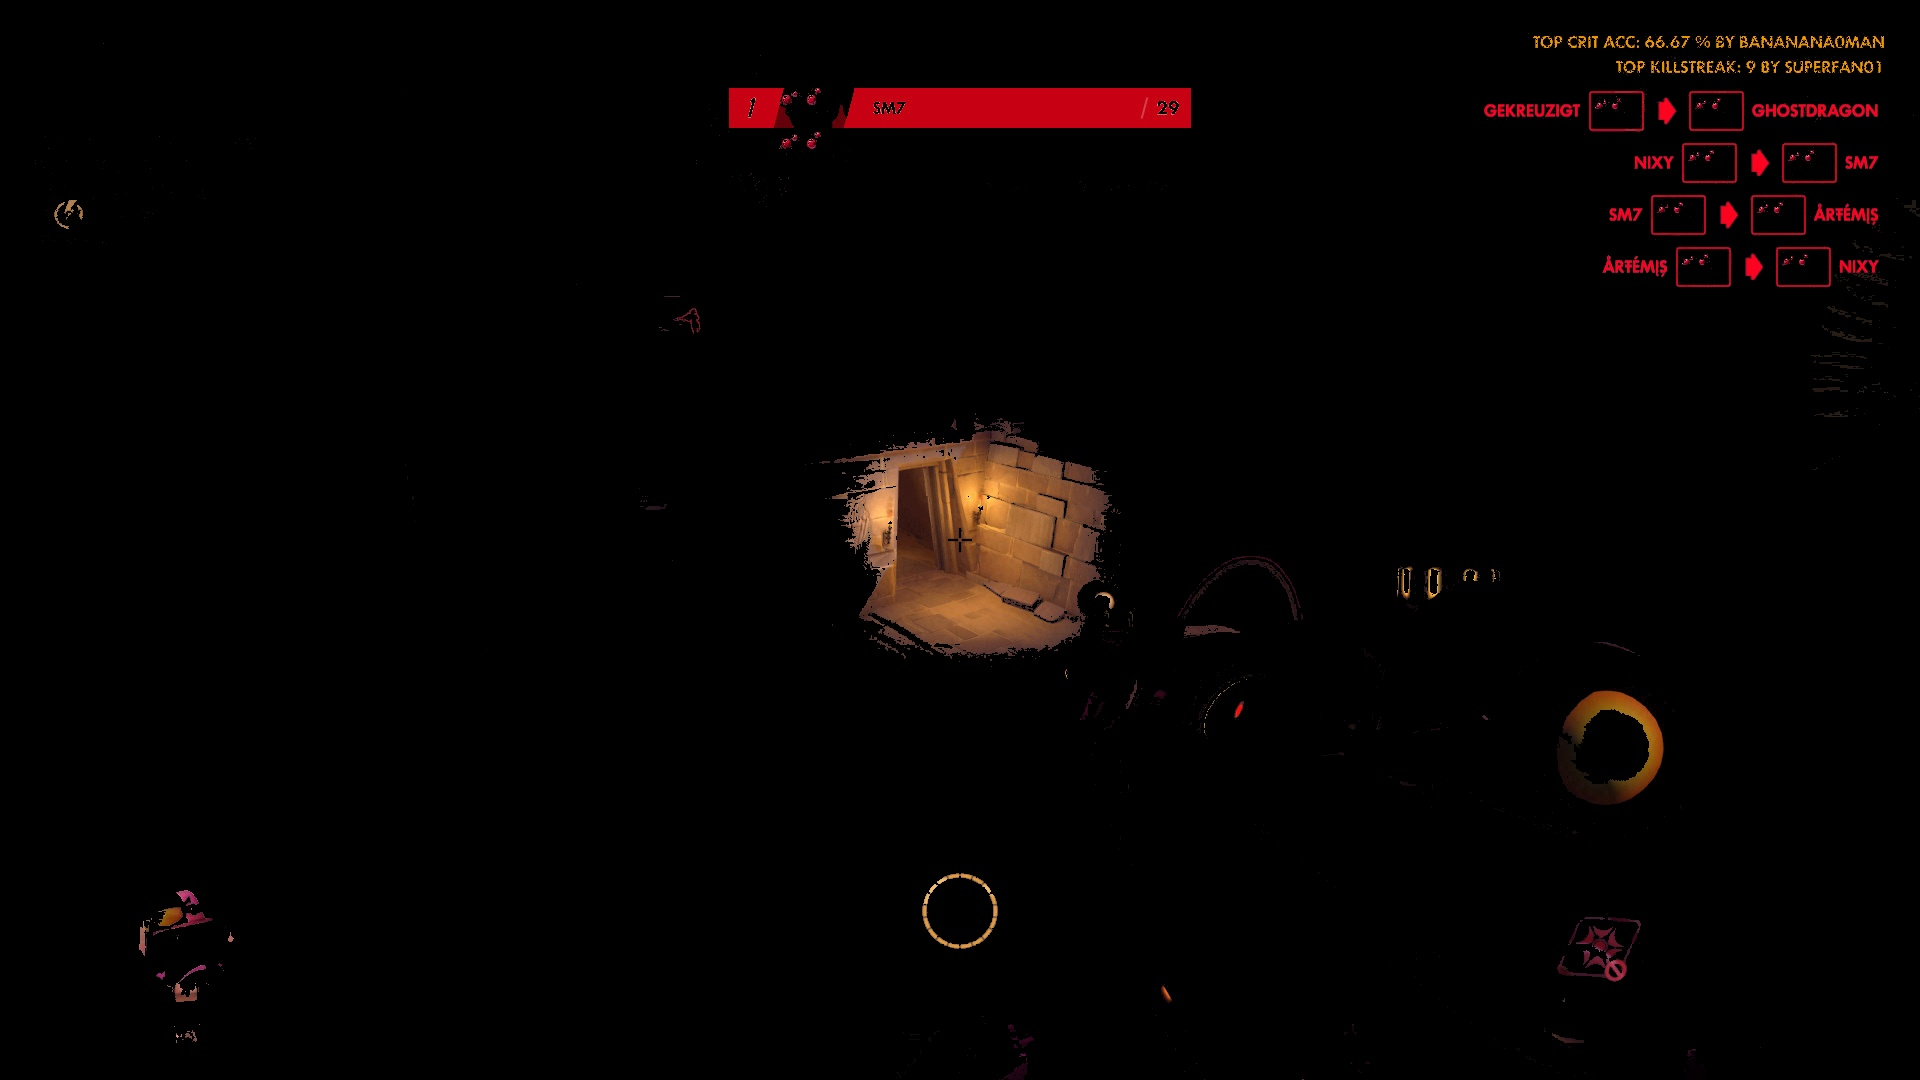widowmaker: (683, 309, 702, 334)
